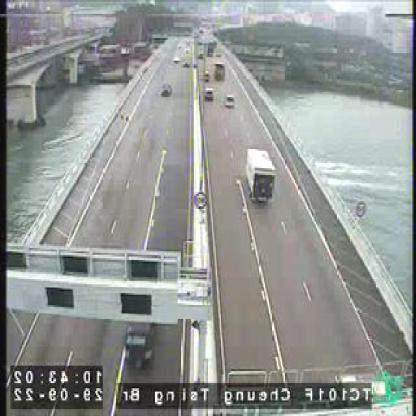Car: (161, 78, 174, 99), (225, 92, 235, 109), (204, 85, 215, 100), (185, 56, 191, 70), (206, 69, 210, 80)
Truck: (244, 144, 274, 208)
